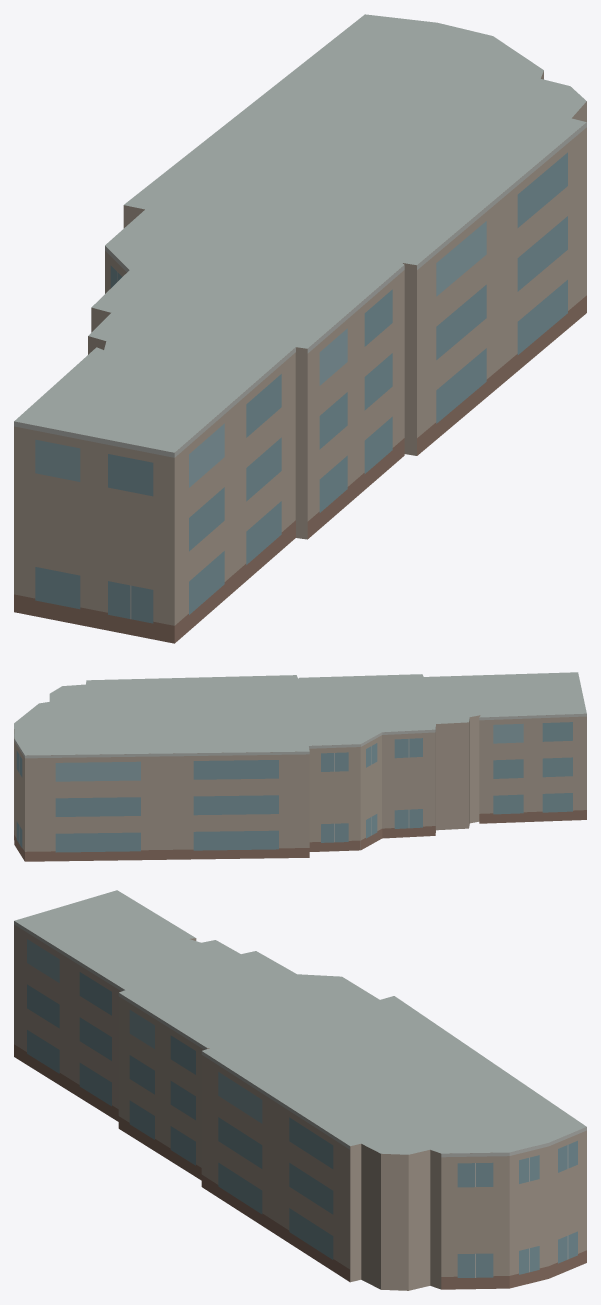
The model's file is survey-upis-33008992.glb.
The picture shows the model from 3 angles, top to bottom: view 1: azimuth 30°, elevation 25°; view 2: azimuth 150°, elevation 25°; view 3: azimuth 270°, elevation 25°; orthographic projection. The views are drawn at different scales.
Parts seen in each view (by area): view 1: survey-upis-33008992.tmp; view 2: survey-upis-33008992.tmp; view 3: survey-upis-33008992.tmp.
Part boxes in pixels (box(x1,y1,x2,y2)): survey-upis-33008992.tmp: box(14, 14, 586, 643); survey-upis-33008992.tmp: box(14, 672, 586, 861); survey-upis-33008992.tmp: box(14, 890, 586, 1290).
Size of the model in its own units: 38.18 by 9.15 by 34.92.
